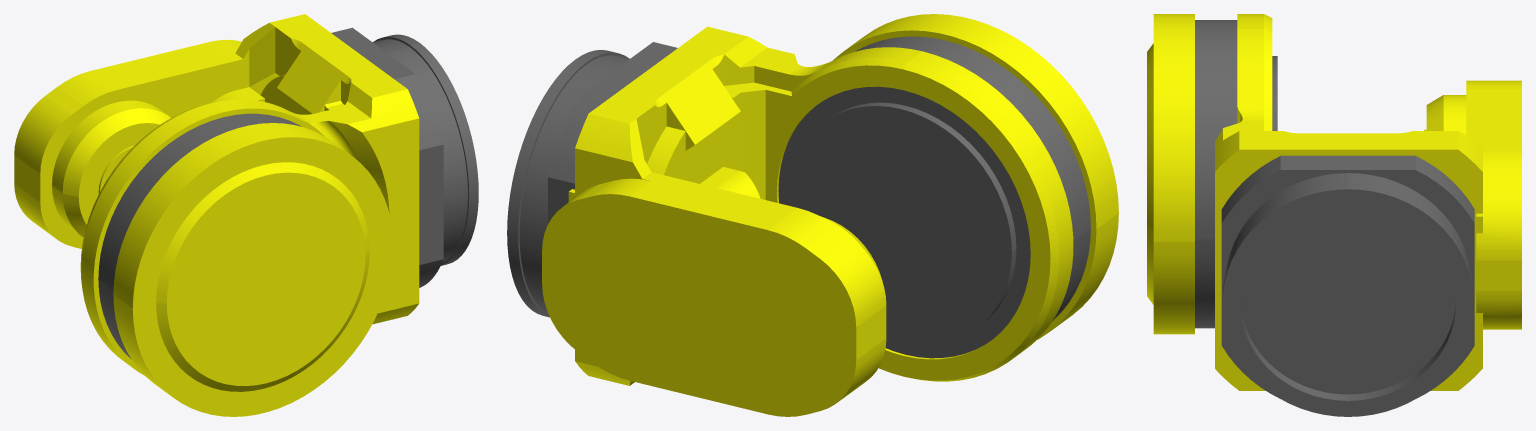
3 views of the same model, side by side, from view 1: azimuth 30°, elevation 25°; view 2: azimuth 150°, elevation 25°; view 3: azimuth 270°, elevation 25° (orthographic). The views are drawn at different scales.
Visible parts, largest first — view 1: Mesh_0; view 2: Mesh_0; view 3: Mesh_0.
Part boxes in pixels (bbox=[...]): Mesh_0: bbox=[14, 14, 478, 416]; Mesh_0: bbox=[507, 14, 1118, 416]; Mesh_0: bbox=[1147, 14, 1521, 416].
Size of the model in its own units: 0.276 by 0.2223 by 0.19.
